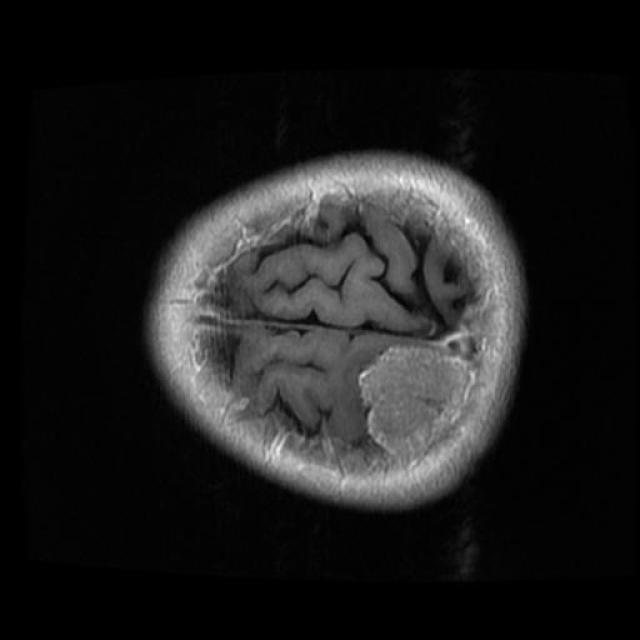Meningioma: (360, 347, 473, 453)
